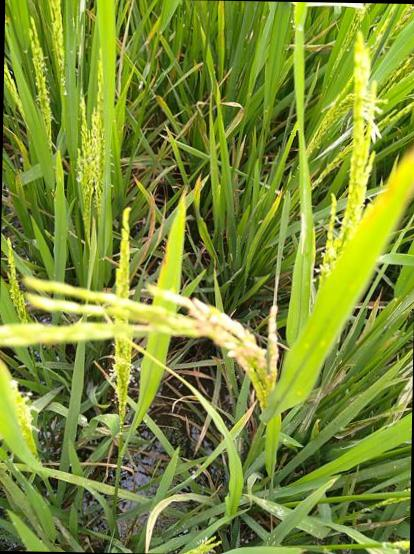Panicle Blight: (181, 298, 277, 382)
